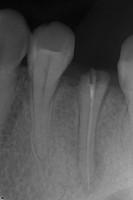Furcation Involvement: (73, 128, 106, 194)
